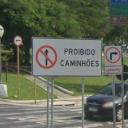NoSeguir: (36, 45, 58, 70)
